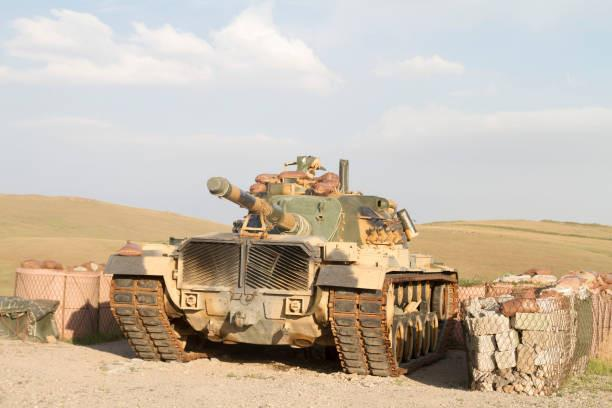tank: (104, 170, 463, 375)
